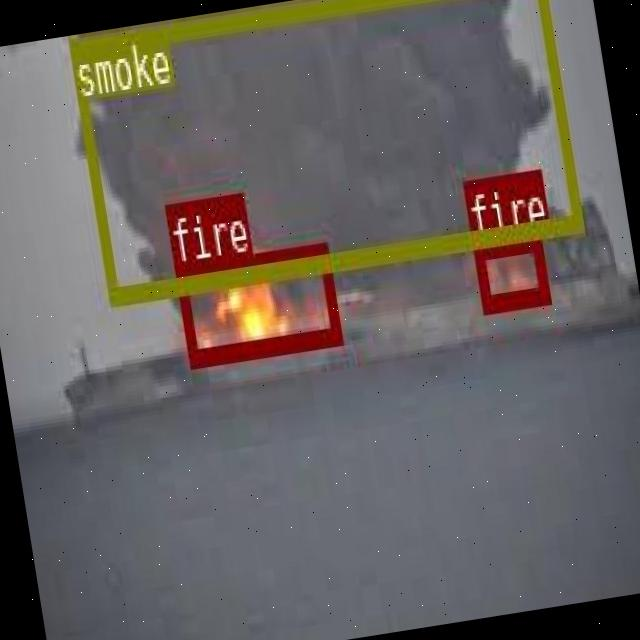fire: (174, 241, 340, 364), (472, 230, 548, 310)
smoke: (66, 0, 582, 301)
